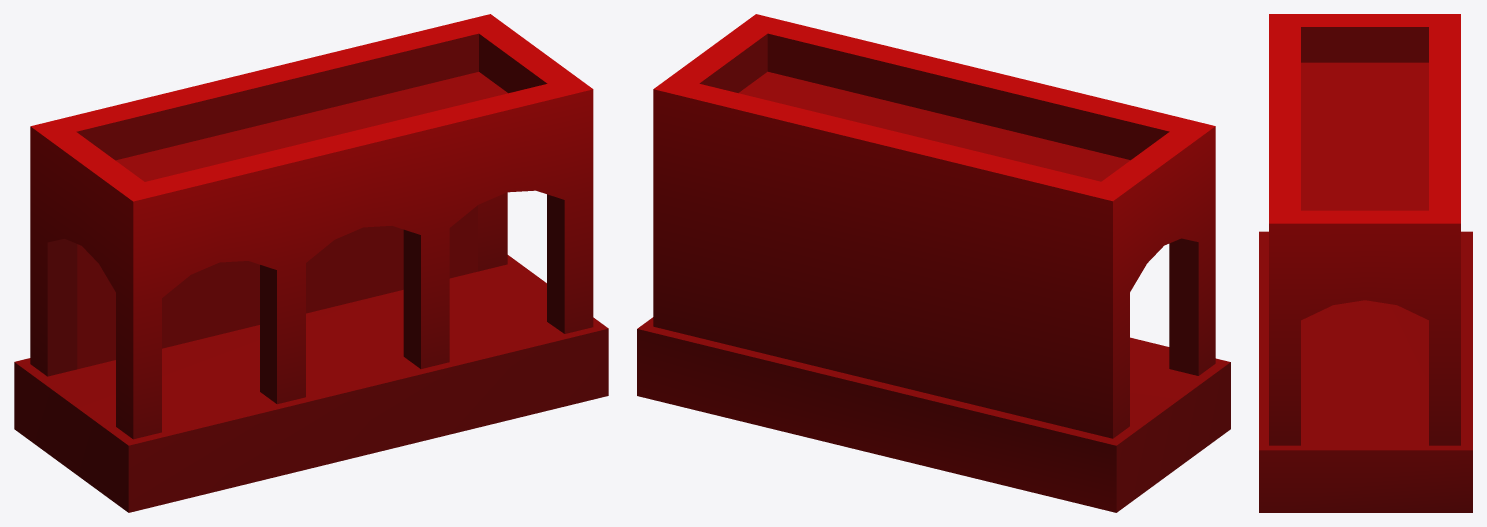
File: buildings-historical-desertbuildingold_v3.fbx
3 views of the same model, side by side, from view 1: azimuth 30°, elevation 25°; view 2: azimuth 150°, elevation 25°; view 3: azimuth 270°, elevation 25° (orthographic). The views are drawn at different scales.
Visible parts, largest first — view 1: DesertBuildingOld_v3; view 2: DesertBuildingOld_v3; view 3: DesertBuildingOld_v3.
Part boxes in pixels (x1,y1,x2,y2): DesertBuildingOld_v3: [14, 14, 608, 512]; DesertBuildingOld_v3: [637, 14, 1230, 512]; DesertBuildingOld_v3: [1259, 14, 1472, 512].
Bounding box in the file's own units: 13.24 × 8.04 × 5.47.
